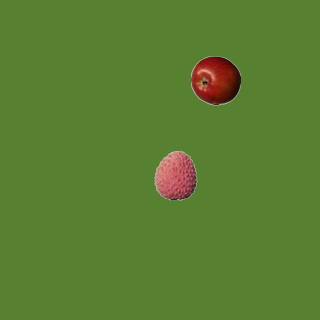Apple Braeburn: (190, 55, 240, 105)
Lychee: (150, 150, 200, 200)
